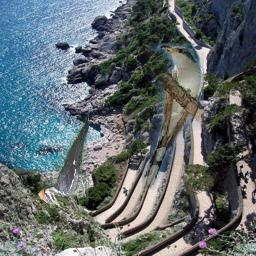Cuckoo: (142, 44, 204, 191)
Woodpecker: (37, 114, 89, 208)
